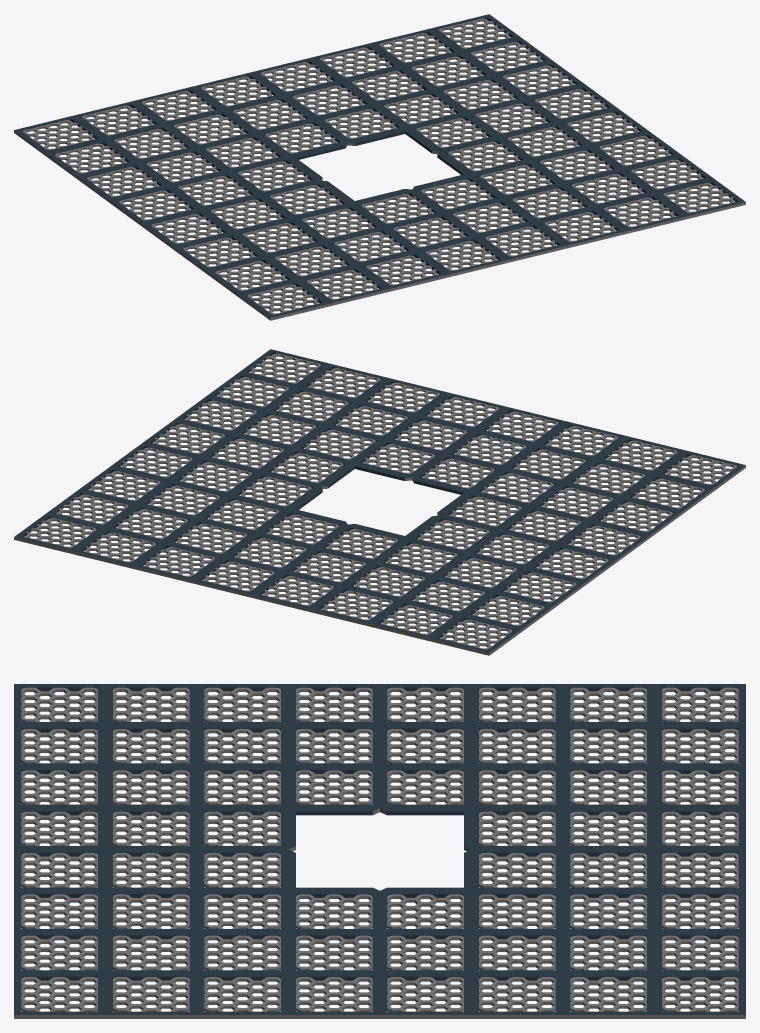
File: Level2MeshFloor.fbx
3 views of the same model, one above another, from view 1: azimuth 30°, elevation 25°; view 2: azimuth 150°, elevation 25°; view 3: azimuth 270°, elevation 25° (orthographic). The views are drawn at different scales.
Parts seen in each view (by area): view 1: Cube.054; view 2: Cube.054; view 3: Cube.054.
Part boxes in pixels (x1=…): Cube.054: x1=14, y1=14, x2=745, y2=320; Cube.054: x1=14, y1=349, x2=745, y2=655; Cube.054: x1=14, y1=684, x2=745, y2=1018.
Size of the model in its own units: 7245 by 41.32 by 6776.
